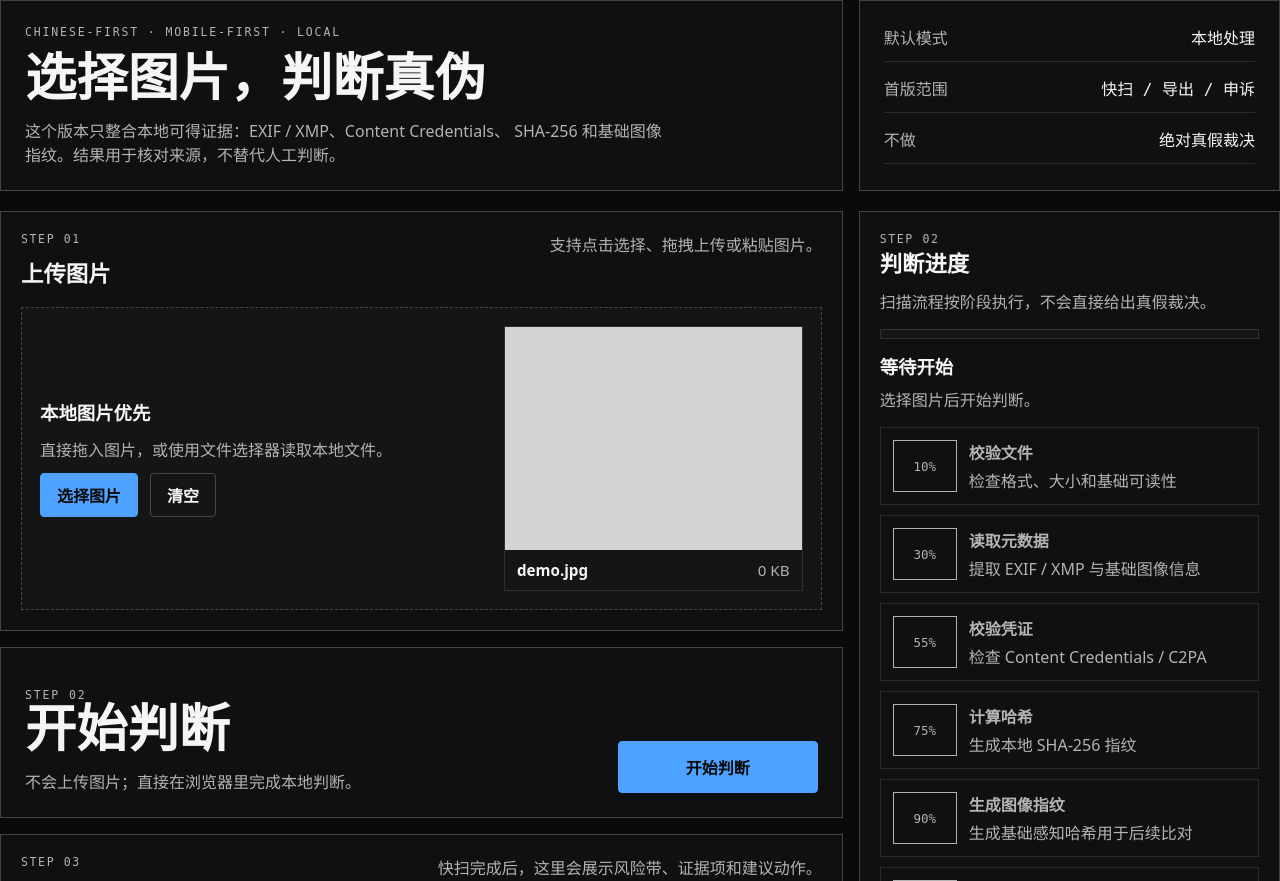
it: ForensicWorkbench › runs the mocked scan flow and renders the result summary
The width and height of the screenshot is (1280, 881).
Earlier steps of the test are not shown.
Expected: the element showing "本地图片优先 直接拖入图片，或使用文件选择器读取本地文件。 选择图片 清空" is shown, [40, 400, 392, 518]
Click the button "开始判断": (718, 767) [618, 741, 818, 793]
(page scrolled)
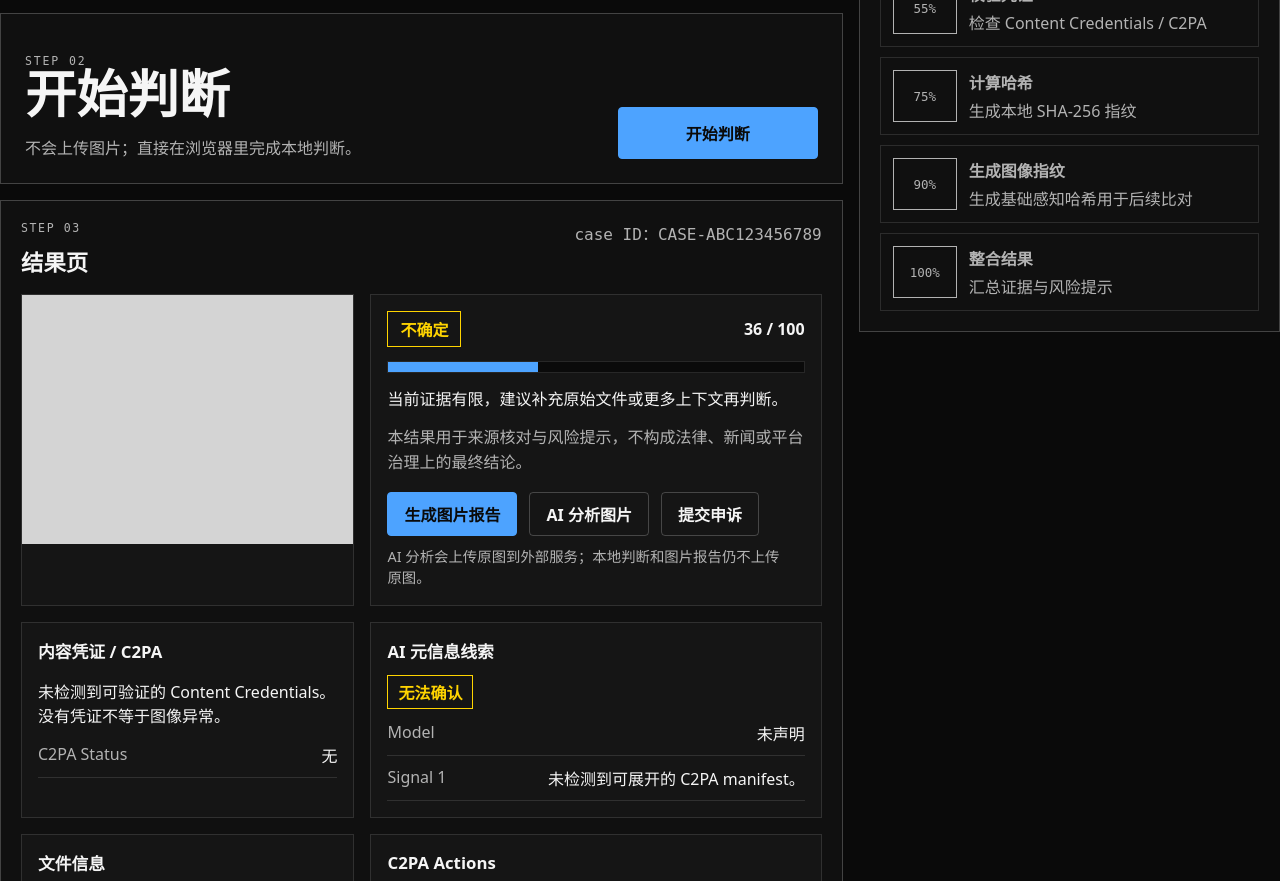
Expected: the text "当前证据有限，建议补充原始文件或更多上下文再判断。" is shown, [388, 387, 805, 412]
Expected: the text "本结果用于来源核对与风险提示，不构成法律、新闻或平台治理上的最终结论。" is shown, [388, 424, 805, 476]
